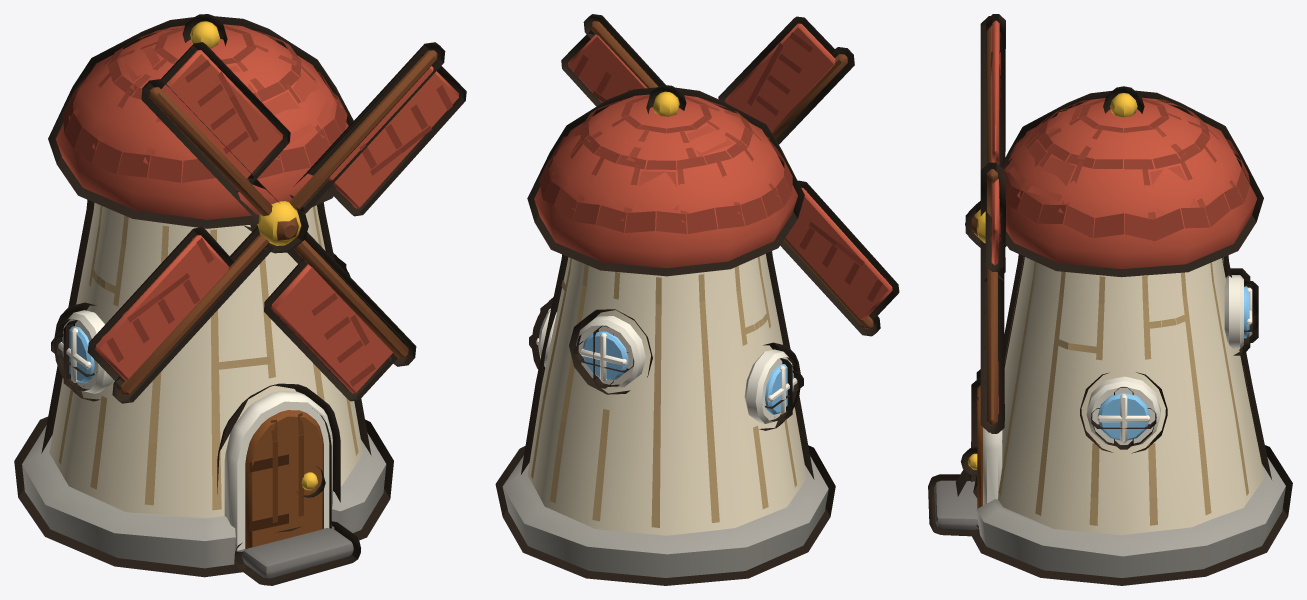
File: house-8.glb
3 renders of one model, left to right at view 1: azimuth 30°, elevation 25°; view 2: azimuth 150°, elevation 25°; view 3: azimuth 270°, elevation 25°, orthographic. The views are drawn at different scales.
Parts seen in each view (by area): view 1: house-8, blades; view 2: house-8, blades; view 3: house-8, blades.
Part boxes in pixels (<box>): house-8: <box>14,14,393,585</box>; blades: <box>87,42,466,403</box>; house-8: <box>495,85,835,585</box>; blades: <box>561,14,899,336</box>; house-8: <box>928,86,1292,585</box>; blades: <box>965,14,1006,433</box>.
Bounding box in the file's own units: 2.79 × 3.74 × 2.64.
